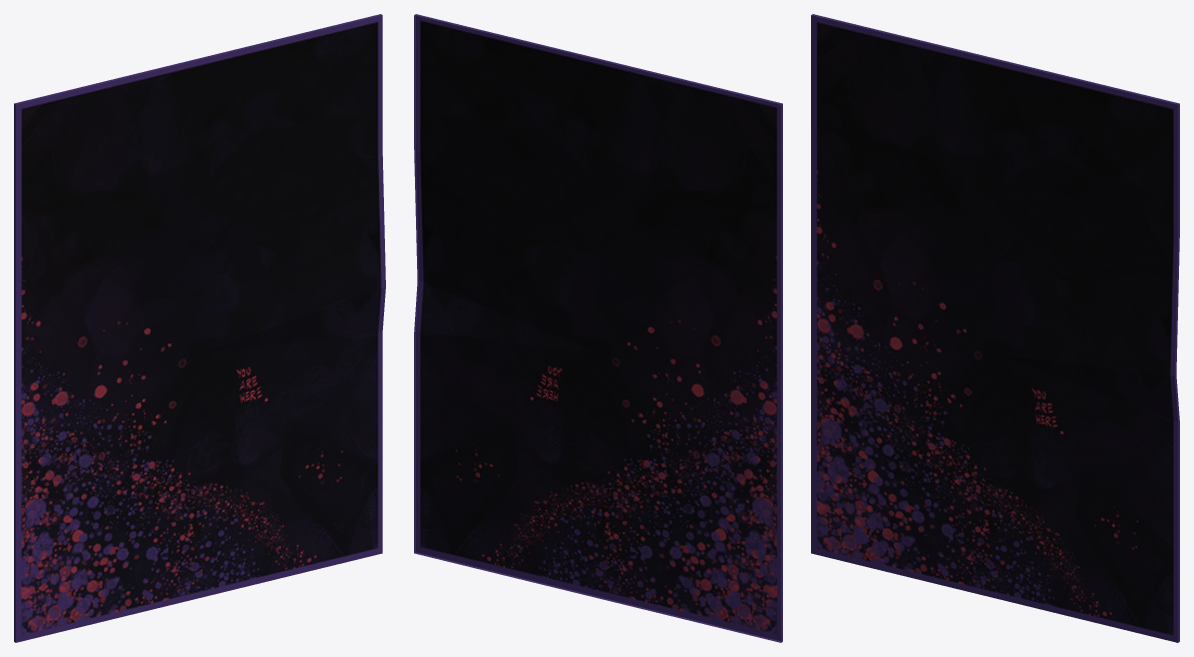
The model's file is Poster2.glb.
3 views of the same model, side by side, from view 1: azimuth 30°, elevation 25°; view 2: azimuth 150°, elevation 25°; view 3: azimuth 330°, elevation 25° (orthographic).
Parts seen in each view (by area): view 1: Poster2; view 2: Poster2; view 3: Poster2.
Boxes of the visible parts, x1,y1,x2,y2 form: Poster2: [14, 14, 385, 642]; Poster2: [414, 14, 782, 642]; Poster2: [811, 14, 1179, 642].
Bounding box in the file's own units: 0.7306 × 1.02 × 0.0174.
1 material, 1 textured.
